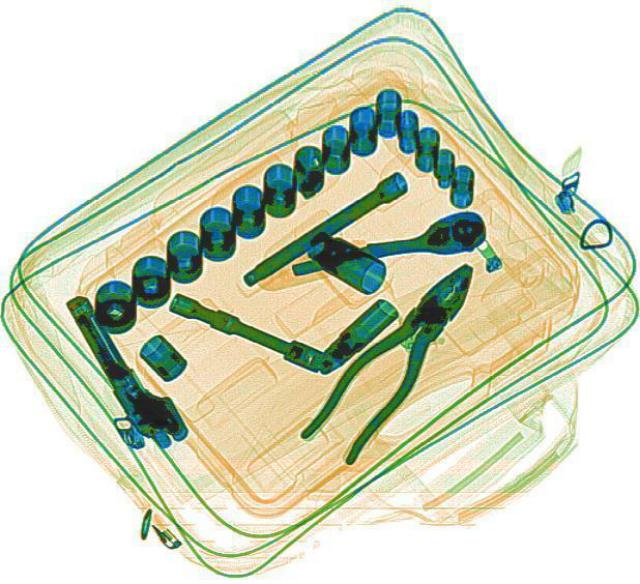Gun: (57, 276, 189, 450)
Pliers: (294, 247, 494, 462)
